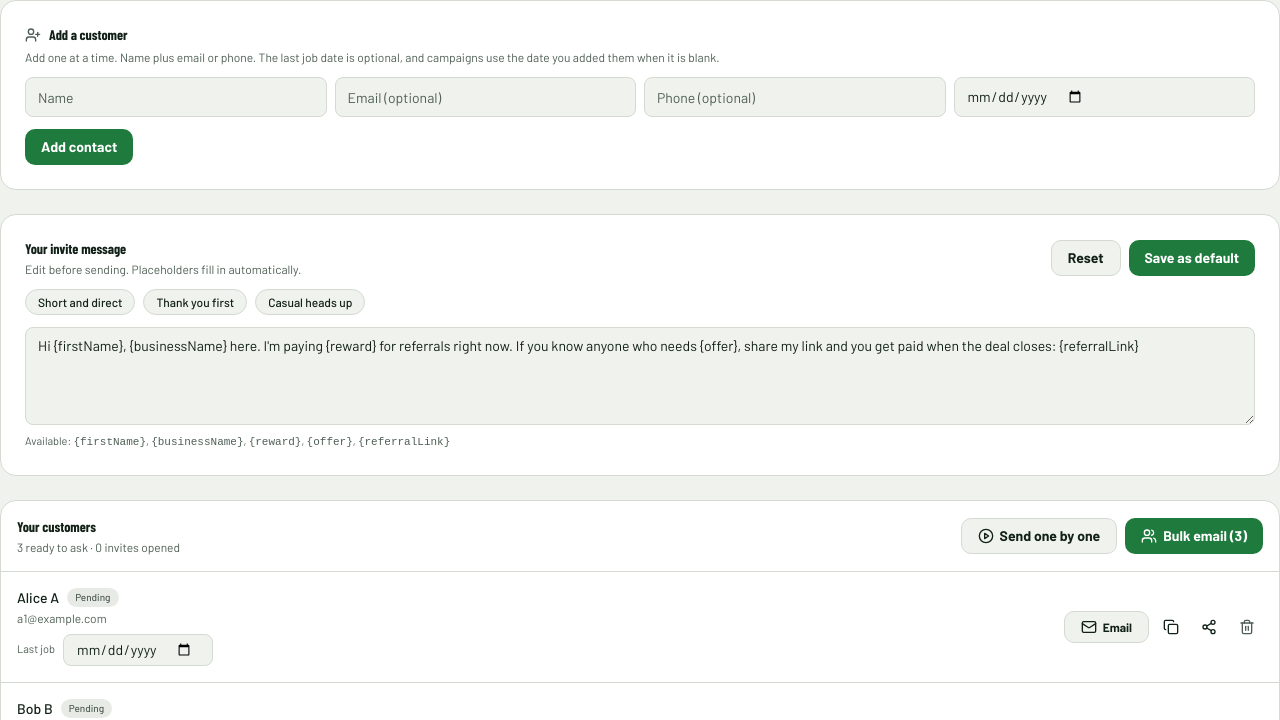
Test: guided run advances exactly once per contact › confirming A then tapping Next shows B, not C
Expected: the text "Alice A" is shown, 17,588 -> 59,608
Click the button "Send one by one": (1039, 536) 961,518 -> 1117,554
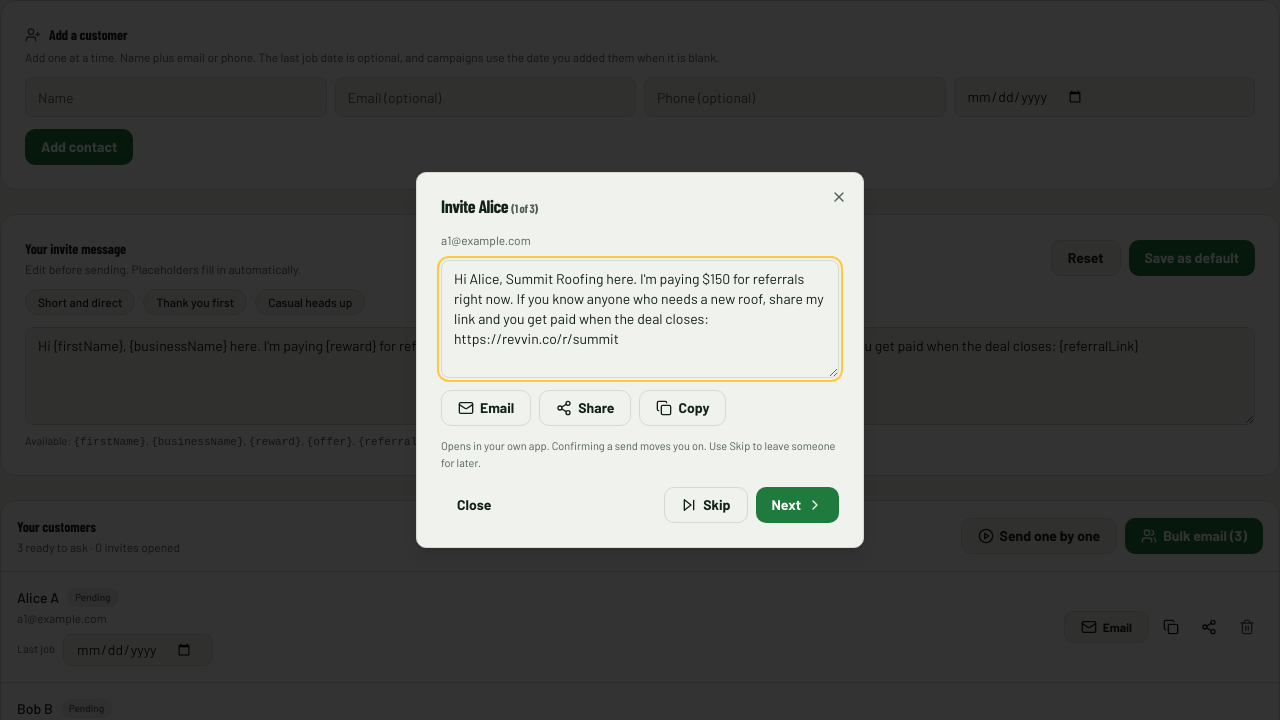
Result: the heading "Invite Alice (1 of 3)" is shown at 441,195 -> 538,217
Result: the text "(1 of 3)" is shown at 511,201 -> 538,215
# Prepare A on email, then confirm. Preparing alone must record nothing.
Click the button "Email": (486, 408) 441,390 -> 531,426
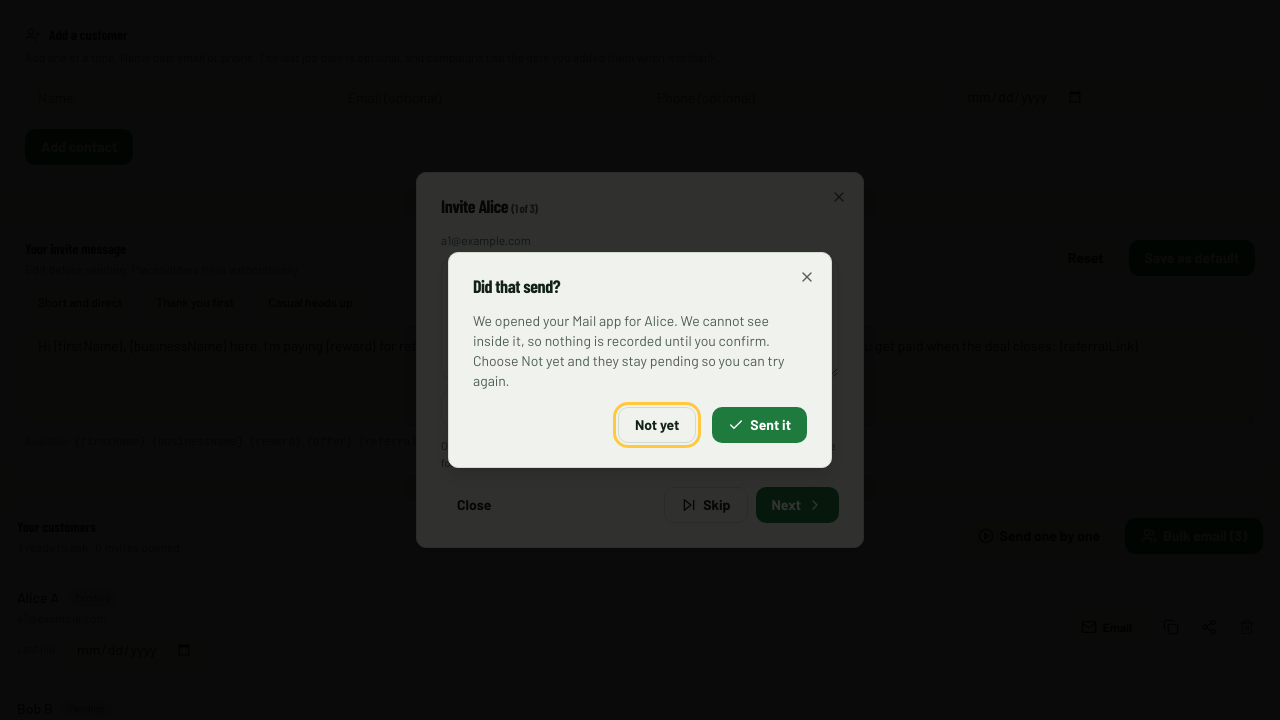
Click the button "Sent it": (760, 425) 712,407 -> 807,443
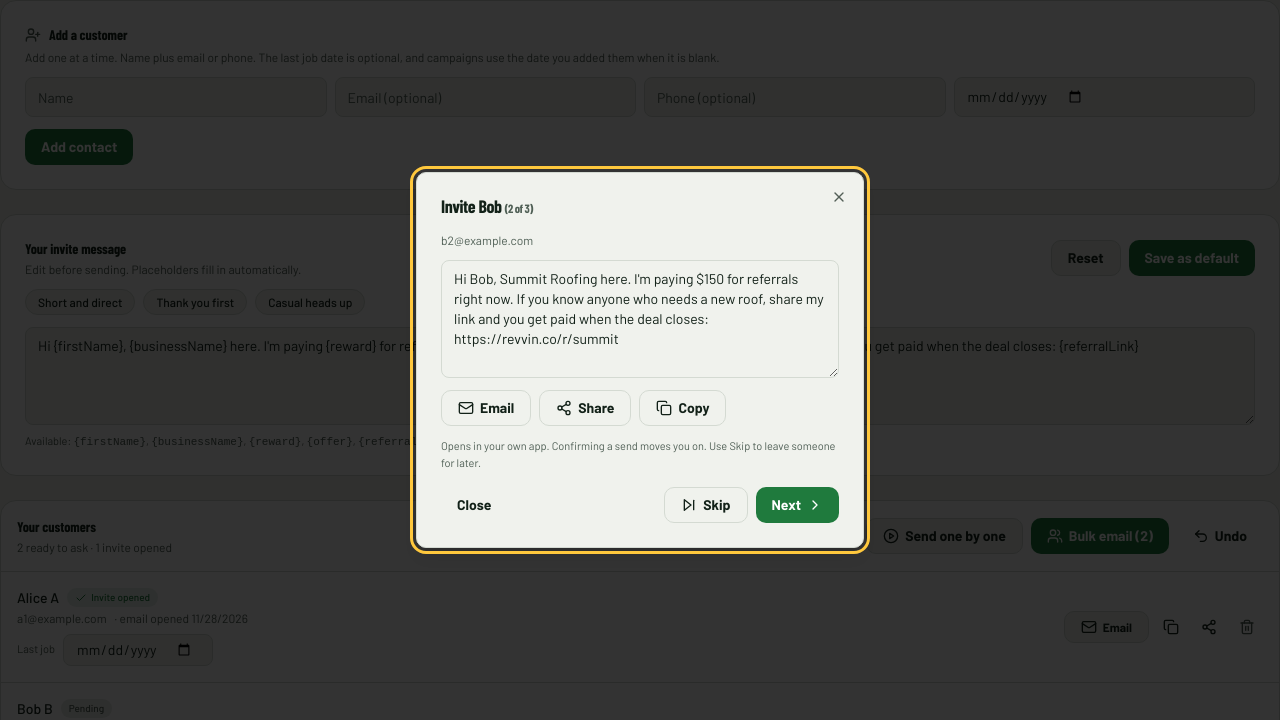
Result: the heading "Invite Bob (2 of 3)" is shown at 441,195 -> 533,217
Result: the text "(2 of 3)" is shown at 505,201 -> 533,215
# Now the instructed Next: it must reach C, and skipping must record nothing.
Click the button "Next": (797, 505) 756,487 -> 839,523
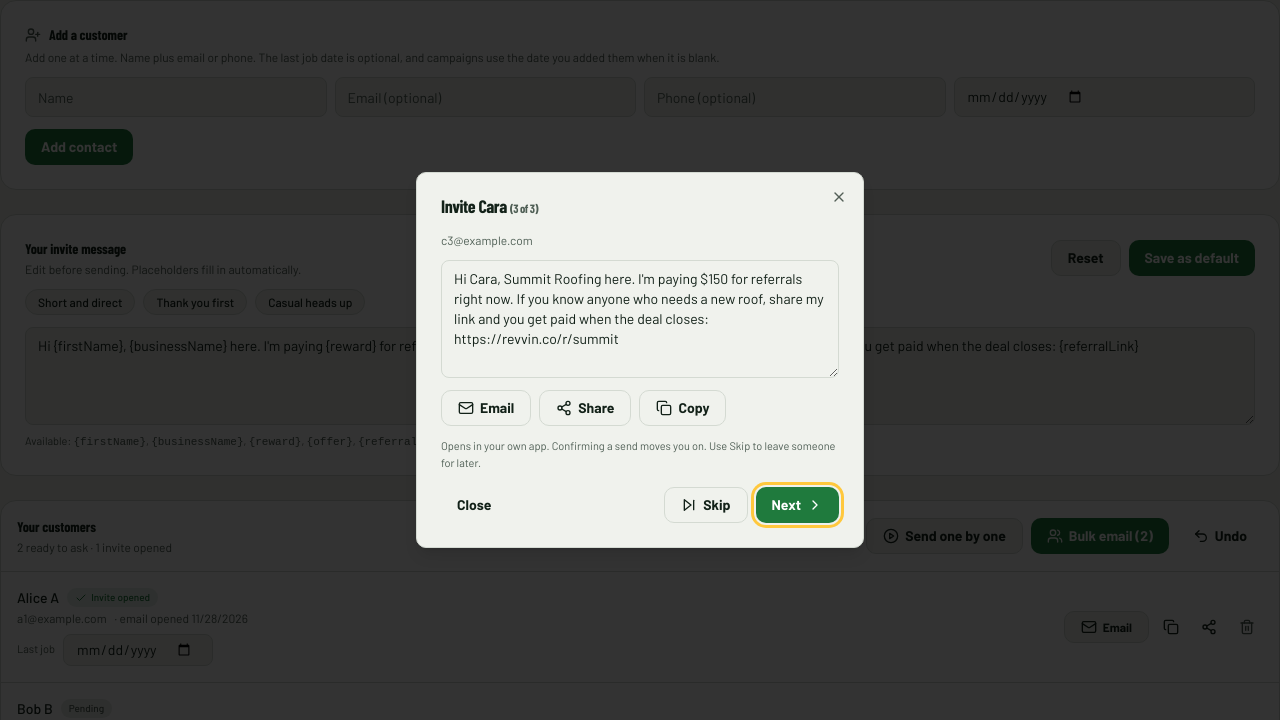
Result: the heading "Invite Cara (3 of 3)" is shown at 441,195 -> 538,217
Result: the text "(3 of 3)" is shown at 510,201 -> 538,215
